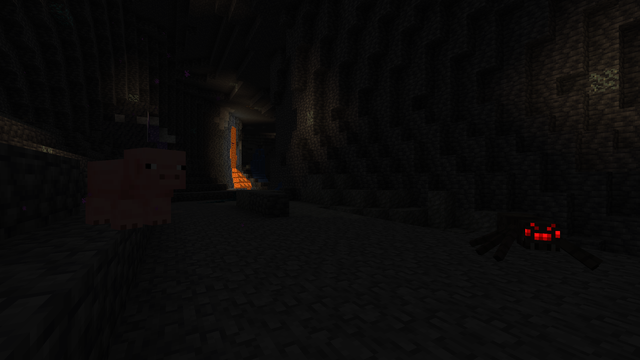araignees: (475, 209, 585, 273)
cochons: (78, 156, 167, 232)
